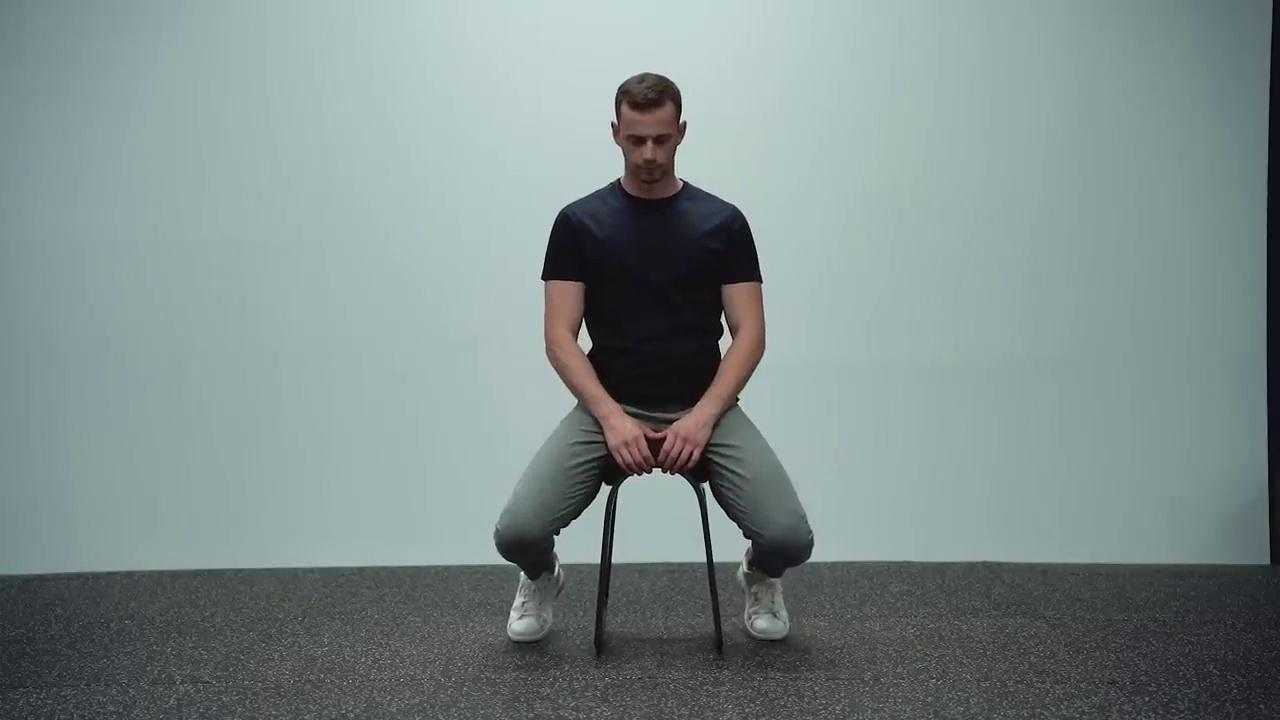GoodPosture: (544, 73, 765, 473)
